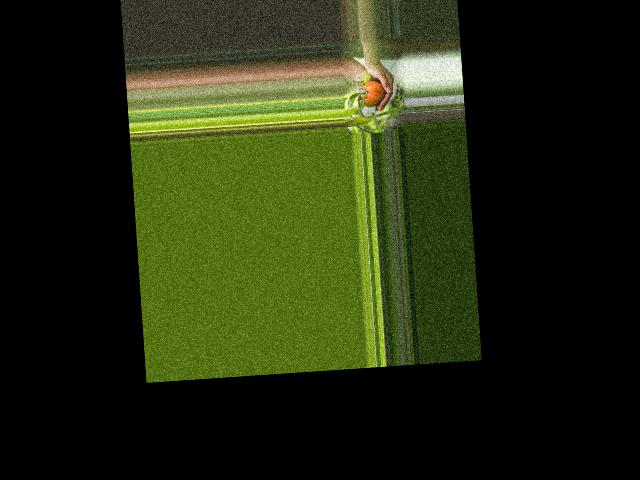tomato: (360, 80, 385, 104)
